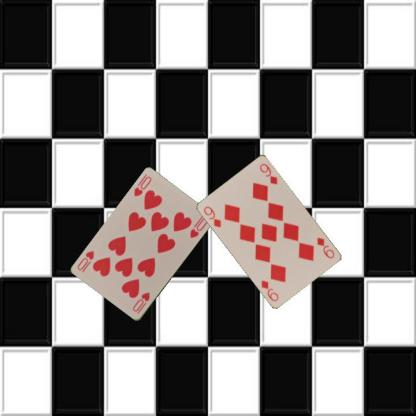10h: (130, 290, 151, 316), (131, 174, 153, 198)
9d: (201, 203, 223, 229), (314, 235, 336, 260)
